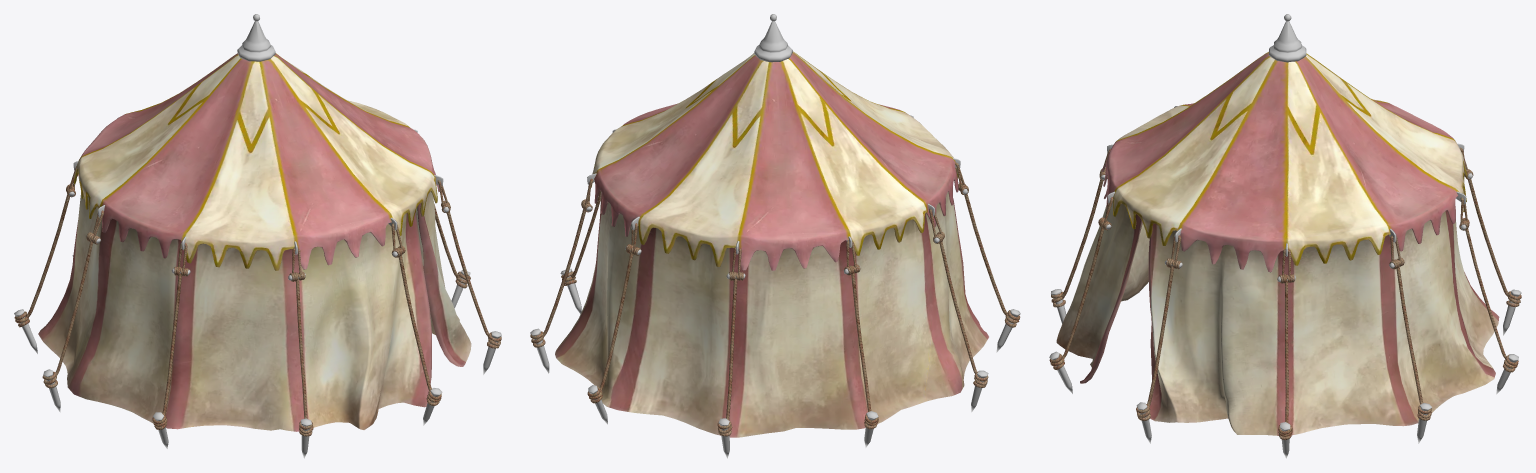
3 renders of one model, left to right at view 1: azimuth 30°, elevation 25°; view 2: azimuth 150°, elevation 25°; view 3: azimuth 270°, elevation 25°, orthographic.
Parts seen in each view (by area): view 1: SM_Narrative_Tent_Vannaka_v1_LOD0; view 2: SM_Narrative_Tent_Vannaka_v1_LOD0; view 3: SM_Narrative_Tent_Vannaka_v1_LOD0.
Part boxes in pixels (x1,y1,x2,y2): SM_Narrative_Tent_Vannaka_v1_LOD0: (14, 14, 501, 458); SM_Narrative_Tent_Vannaka_v1_LOD0: (530, 14, 1020, 458); SM_Narrative_Tent_Vannaka_v1_LOD0: (1049, 14, 1521, 458).
Bounding box in the file's own units: 6.32 × 4.97 × 6.04.
